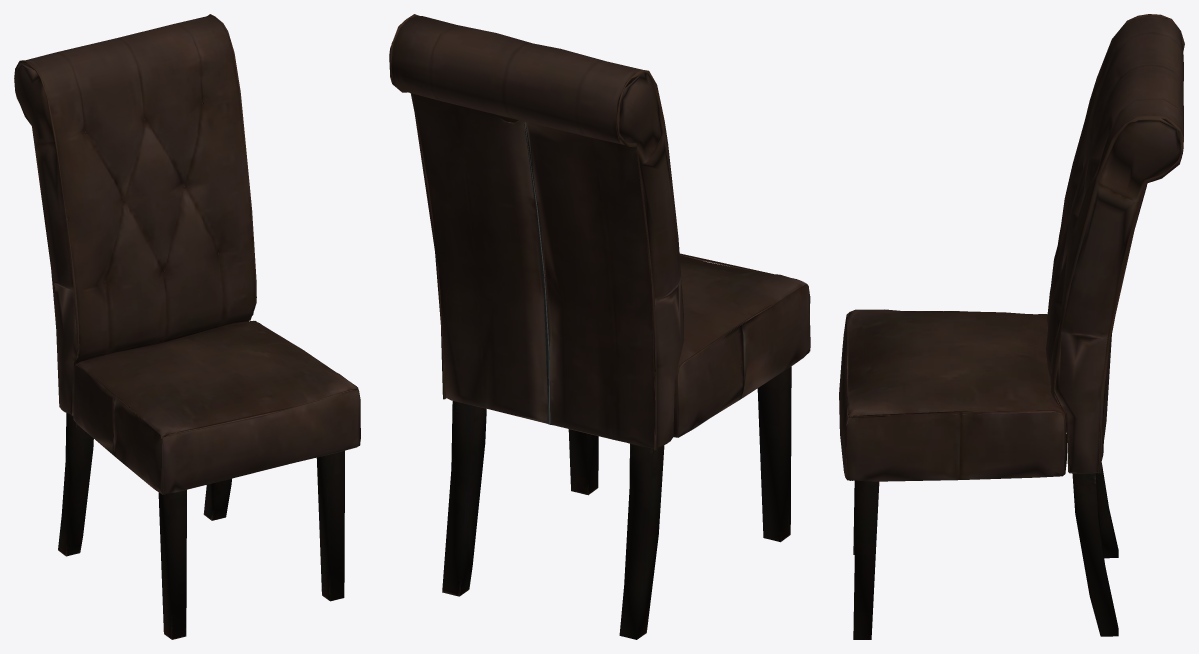
The model's file is dining_chair_02.glb.
The picture shows the model from 3 angles, left to right: view 1: azimuth 30°, elevation 25°; view 2: azimuth 150°, elevation 25°; view 3: azimuth 270°, elevation 25°; orthographic projection. The views are drawn at different scales.
Parts seen in each view (by area): view 1: dining_chair_02; view 2: dining_chair_02; view 3: dining_chair_02.
Boxes of the visible parts, x1,y1,x2,y2 form: dining_chair_02: (14,14,360,639); dining_chair_02: (389,14,810,639); dining_chair_02: (839,14,1184,639).
Size of the model in its own units: 0.4314 by 0.9727 by 0.5764.
Materials: 1 (1 with a texture image).
